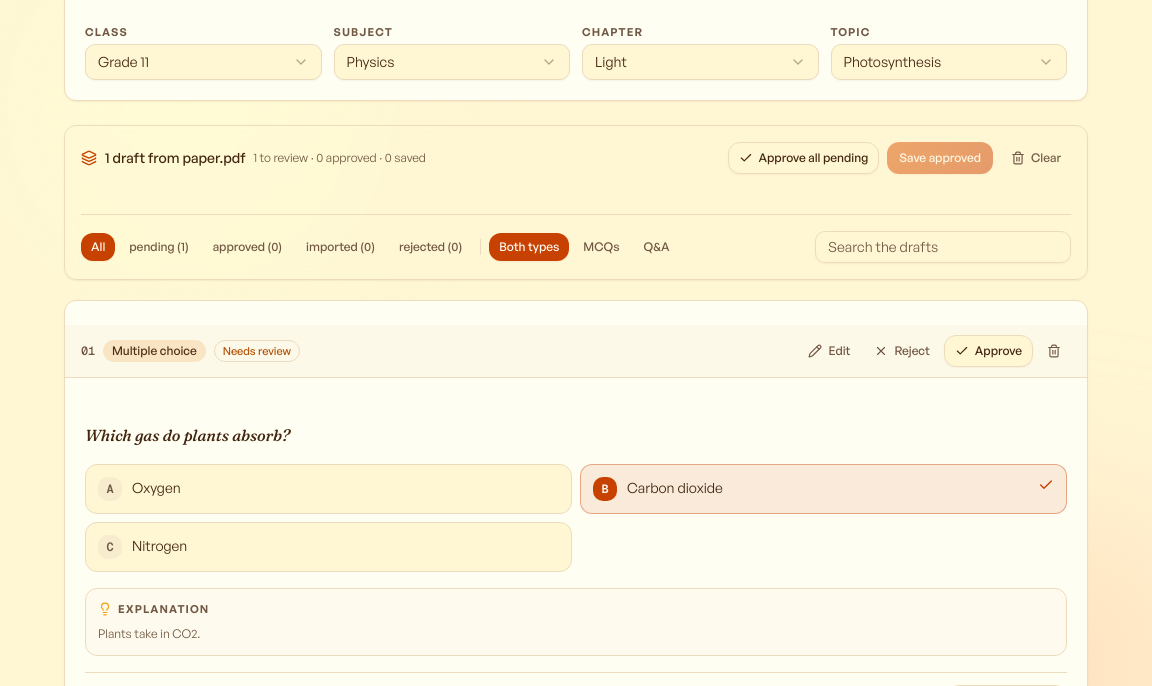
Test: AI Studio › saves an approved MCQ into the selected topic
(page scrolled)
Click the button "Approve" at (988, 351), box [944, 335, 1033, 367]
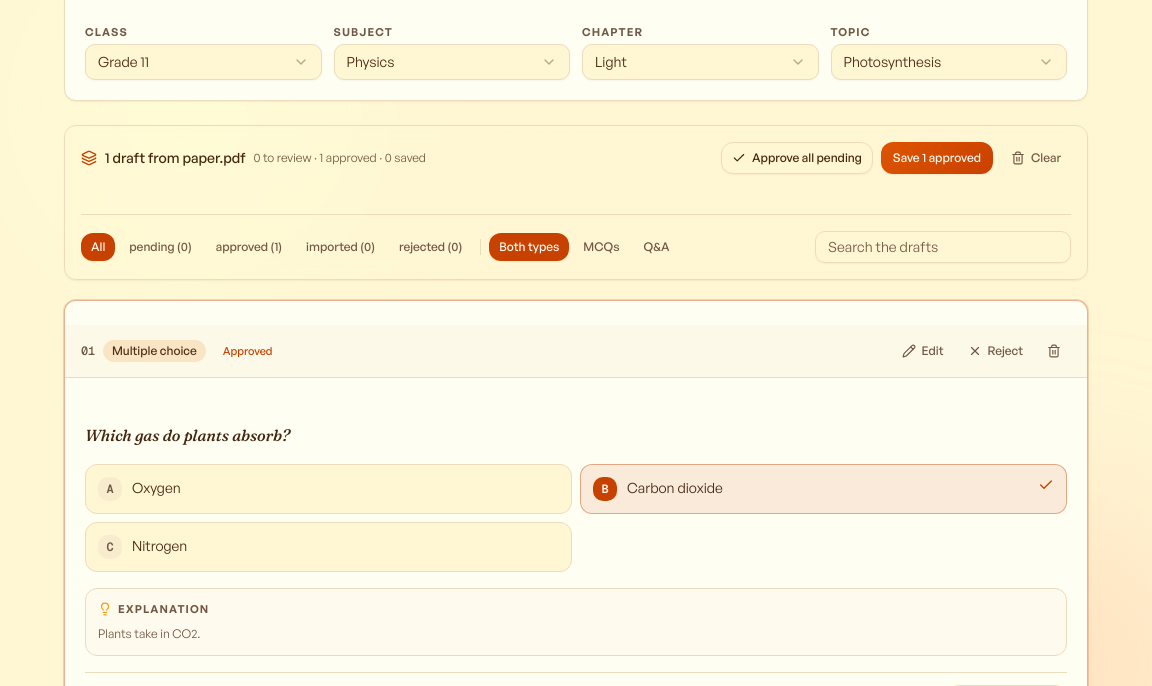
Click the button "Save 1 approved" at (937, 158), box [881, 142, 993, 174]
(page scrolled)
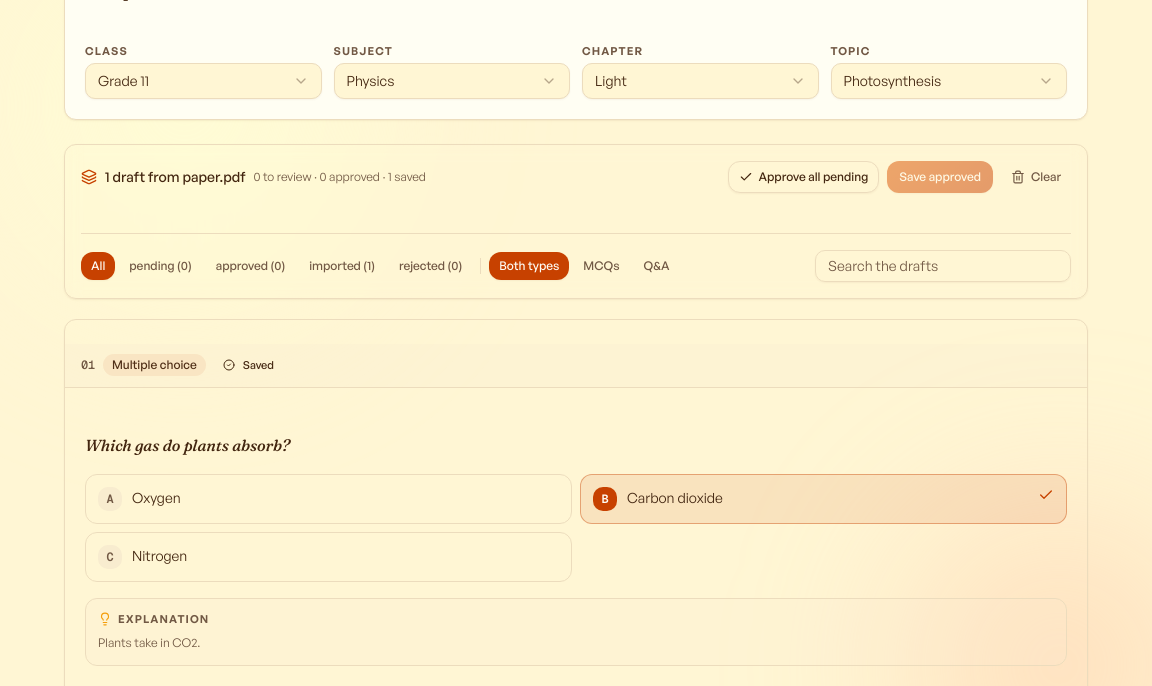
Result: the text "Saved" is shown at [223, 358, 274, 372]
